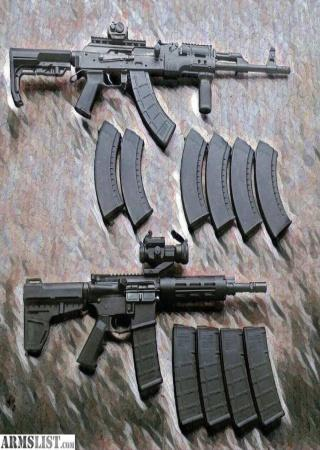weapon: (22, 230, 267, 396), (8, 21, 292, 152)
